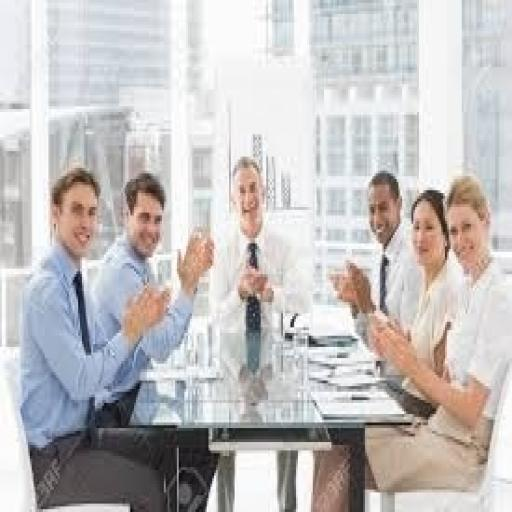clapping: (309, 171, 510, 509), (17, 165, 214, 509), (192, 113, 330, 468)
